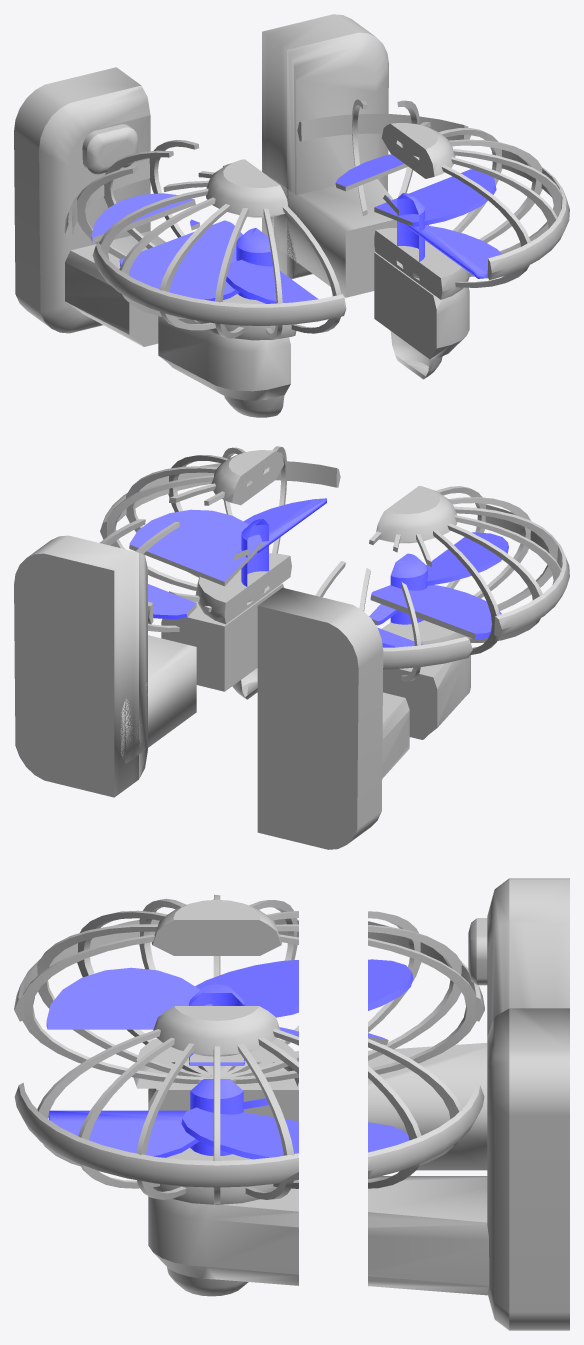
The model's file is item_A.fbx.
3 views of the same model, one above another, from view 1: azimuth 30°, elevation 25°; view 2: azimuth 150°, elevation 25°; view 3: azimuth 270°, elevation 25° (orthographic). The views are drawn at different scales.
Parts seen in each view (by area): view 1: itemA_pCylinder98.002, itemA_pCylinder98, itemA_pCylinder98.003, itemA_pCylinder98.001; view 2: itemA_pCylinder98.003, itemA_pCylinder98, itemA_pCylinder98.001, itemA_pCylinder98.002; view 3: itemA_pCylinder98.003, itemA_pCylinder98.001, itemA_pCylinder98.002, itemA_pCylinder98.
Boxes of the visible parts, x1,y1,x2,y2 form: itemA_pCylinder98.002: (92,159,346,417); itemA_pCylinder98: (14,67,199,346); itemA_pCylinder98.003: (262,14,471,297); itemA_pCylinder98.001: (374,122,569,379); itemA_pCylinder98.003: (14,519,196,797); itemA_pCylinder98: (257,561,472,849); itemA_pCylinder98.001: (100,446,340,699); itemA_pCylinder98.002: (369,486,569,739); itemA_pCylinder98.003: (368,1008,569,1330); itemA_pCylinder98.001: (14,1006,298,1296); itemA_pCylinder98.002: (14,894,298,1147); itemA_pCylinder98: (368,878,569,1170).
Size of the model in its own units: 340 by 174 by 312.
